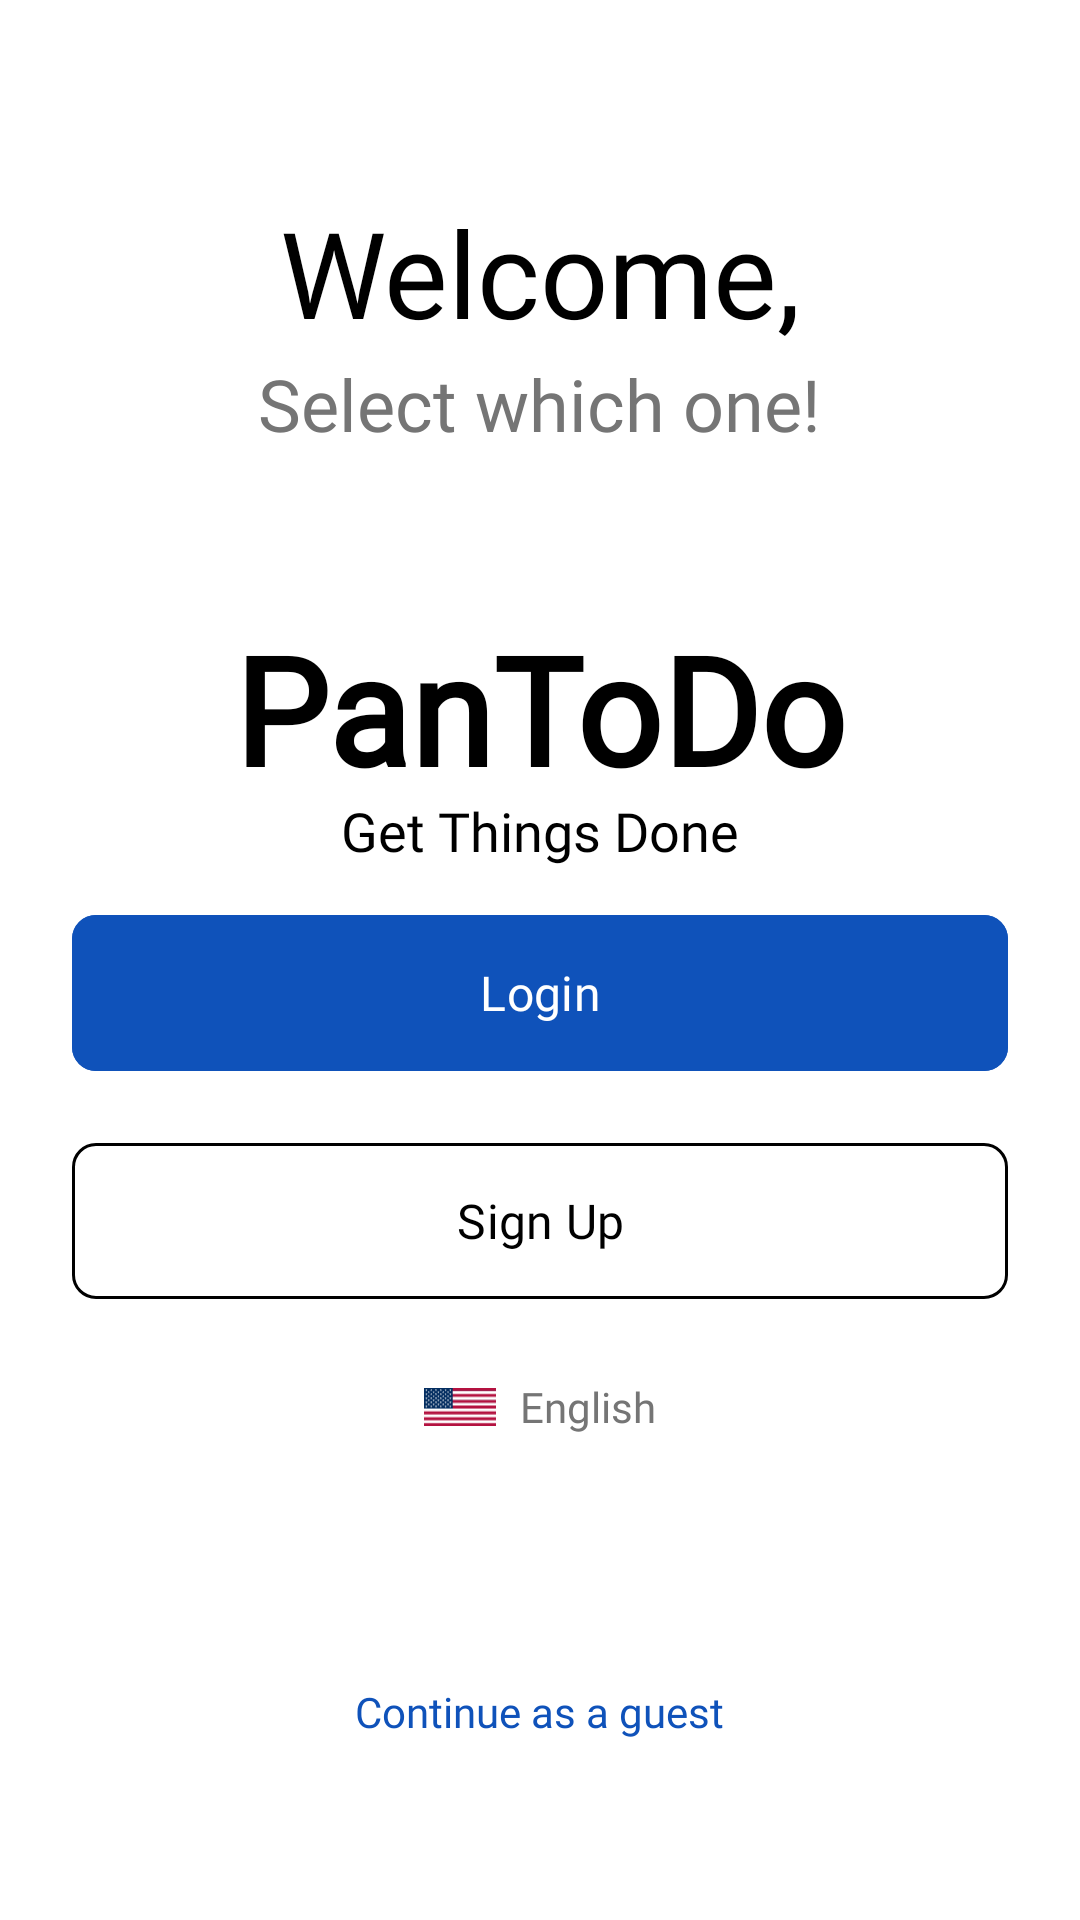

Named icons in this screenshot (1080px×1920px) and their bounding boxes, (x1, y1, x2, y2):
flag us: (424, 1388, 496, 1426)
